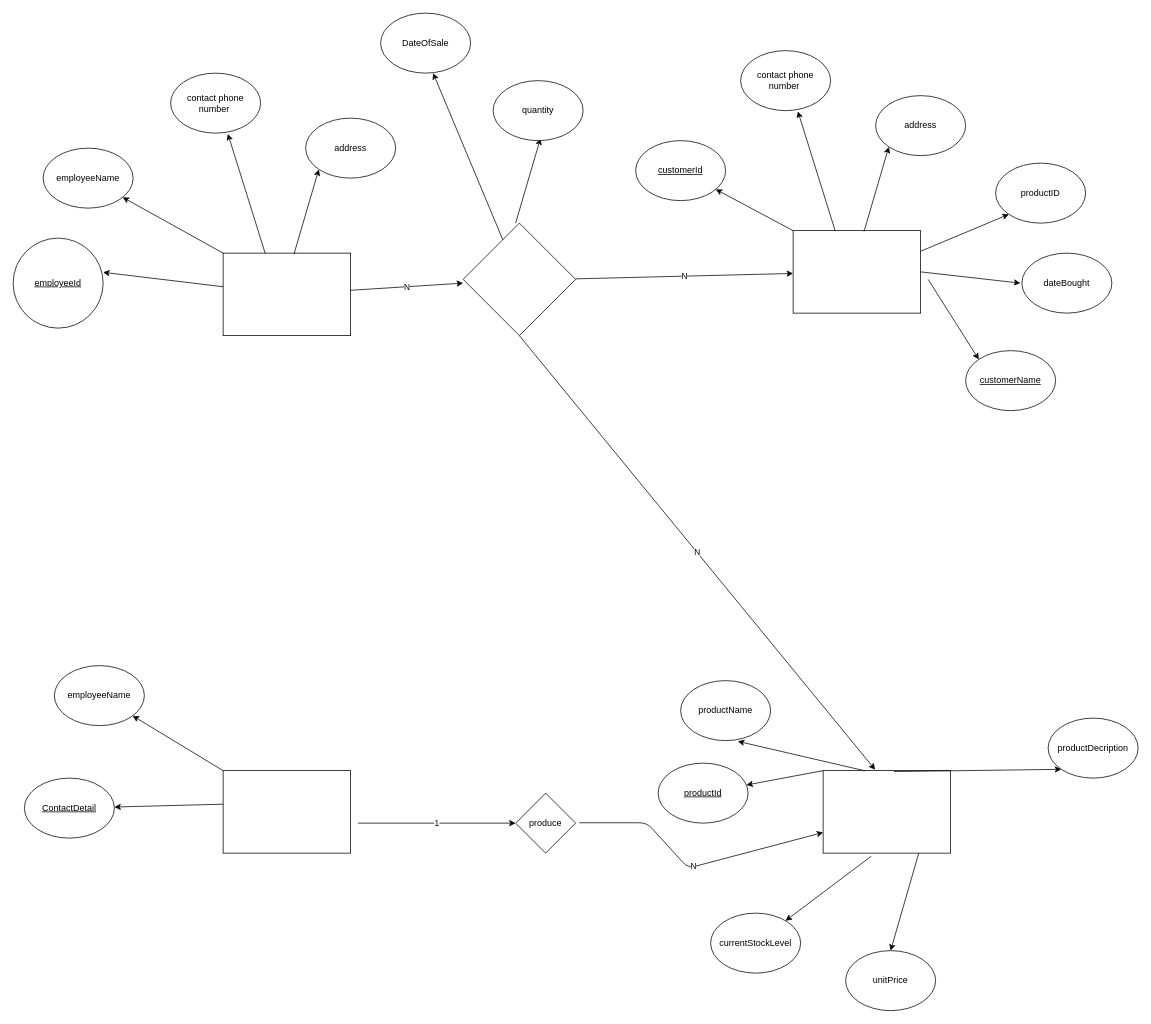
Some shapes in this 1151 by 1024 pixel diagram are drawn without their labels. The shapes that lost their labels are listed below. From the top down, each one's centre as x and y in pixels, then its label:
[519,279]: Sell
[856,271]: Customer
[286,294]: Employee
[286,811]: Company
[886,811]: Product
